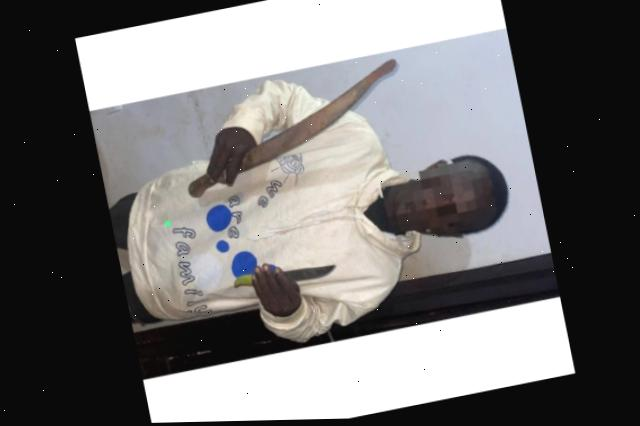long knife: (156, 54, 431, 220)
